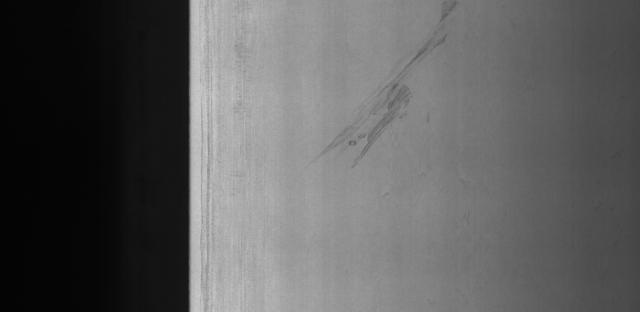water_spot: (307, 0, 488, 181)
